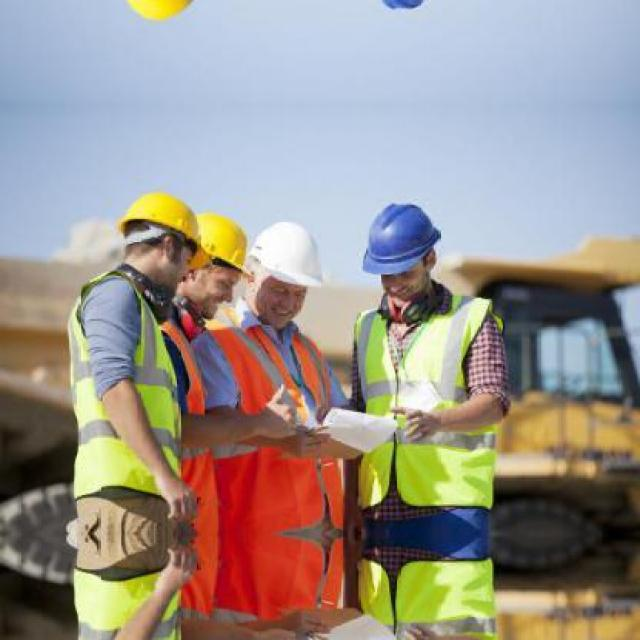Reflective-Jacket: (346, 290, 514, 523), (51, 268, 195, 517), (197, 312, 343, 536)
Safety-Helmet: (351, 196, 451, 284), (104, 182, 208, 259), (246, 211, 334, 296), (184, 207, 256, 285)
